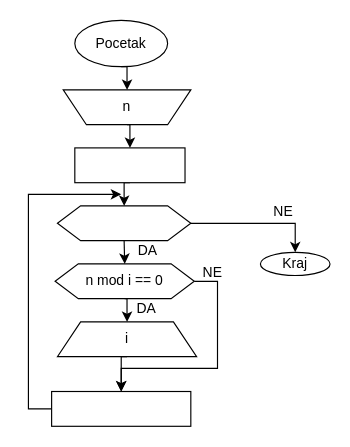
The diagram is 350 pixels wide and 447 high, and some of its shapes have lost their labels. The centre of each missing label's shape, as x and y in pixels:
"i <=n" belongs at pixel 123 223.
"i = 1" belongs at pixel 129 165.
"i = i + 1" belongs at pixel 120 408.
